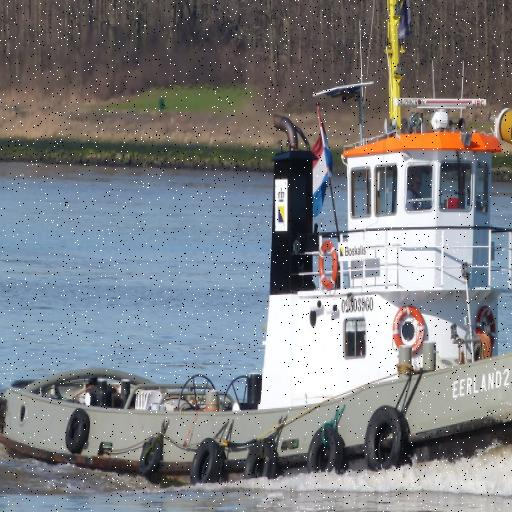tugboat: (1, 1, 512, 497)
